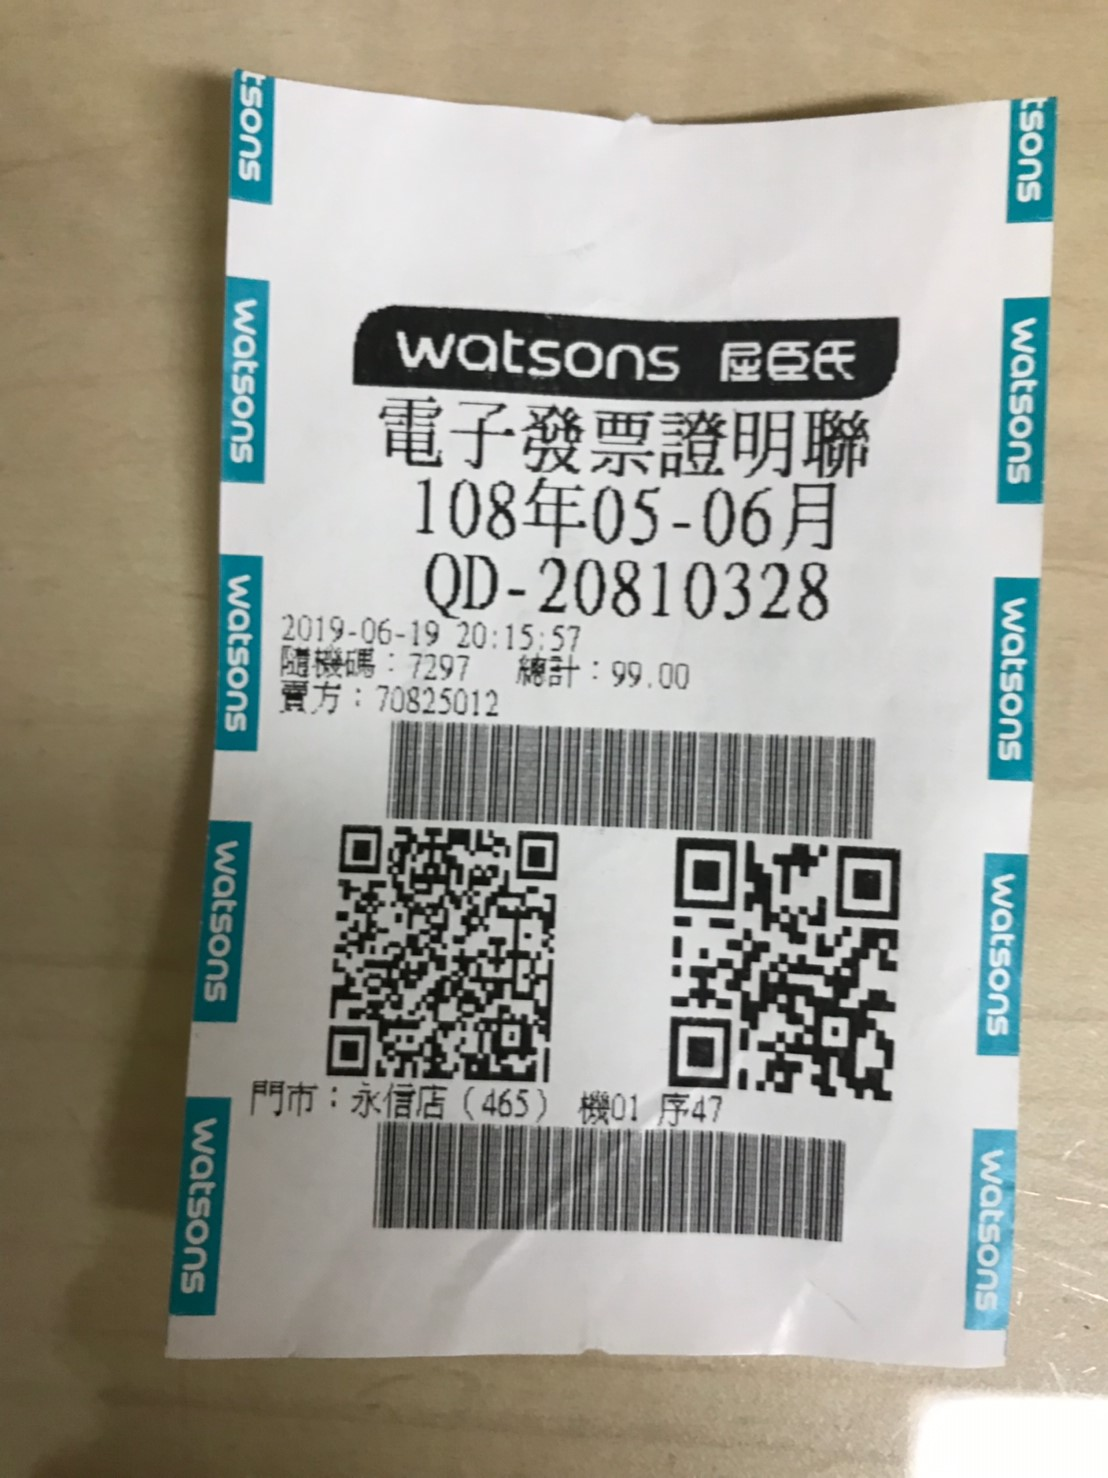Date_New: (411, 474, 834, 556)
Number_New: (532, 550, 829, 626)
